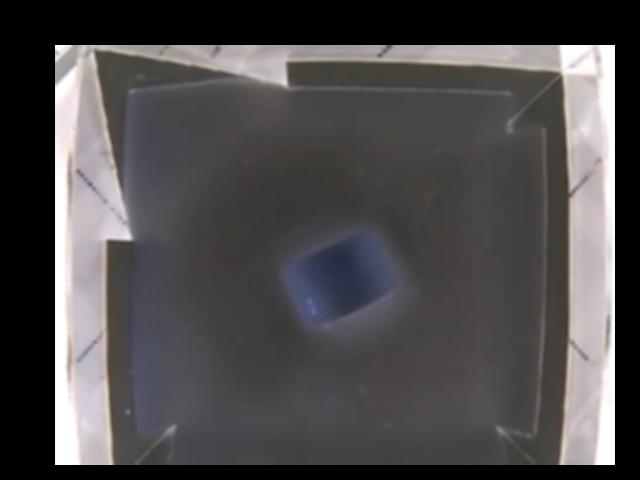Mooli: (286, 226, 399, 327)
